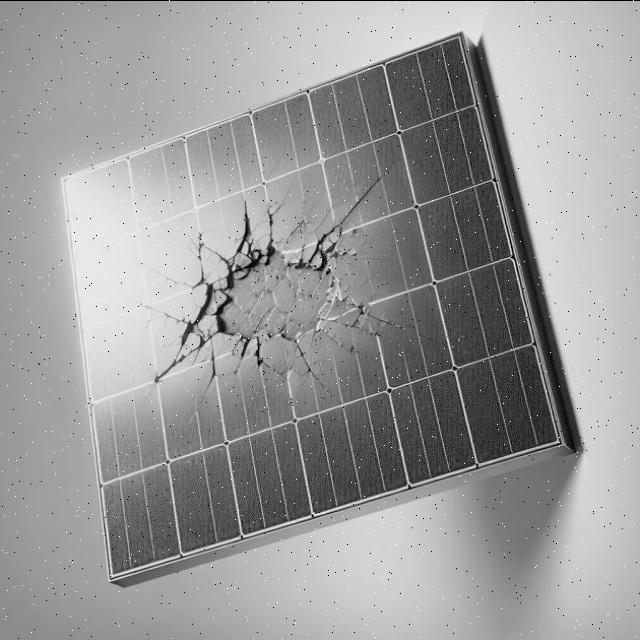Anomaly Solar Panel: (6, 36, 564, 576)
Structural Damage: (173, 200, 351, 399), (150, 319, 217, 392), (334, 156, 402, 227), (354, 306, 435, 348), (291, 342, 340, 410), (187, 339, 224, 425), (328, 316, 401, 352), (318, 329, 381, 367), (141, 306, 188, 326)
